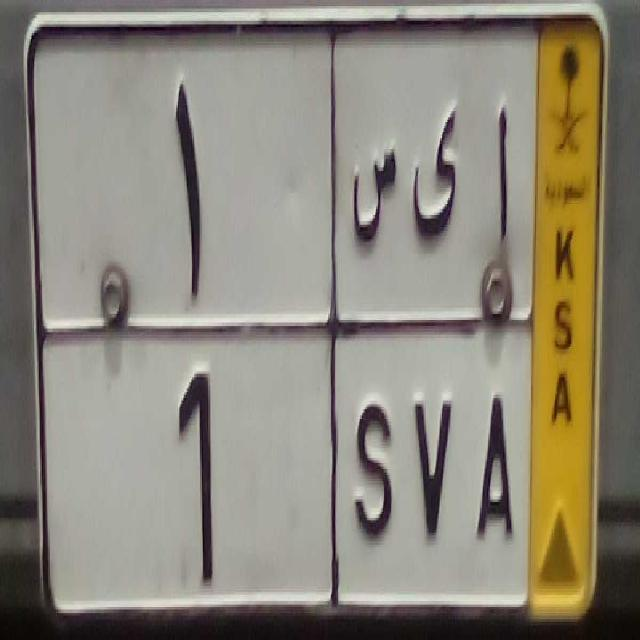license_plate: (40, 319, 532, 616)
